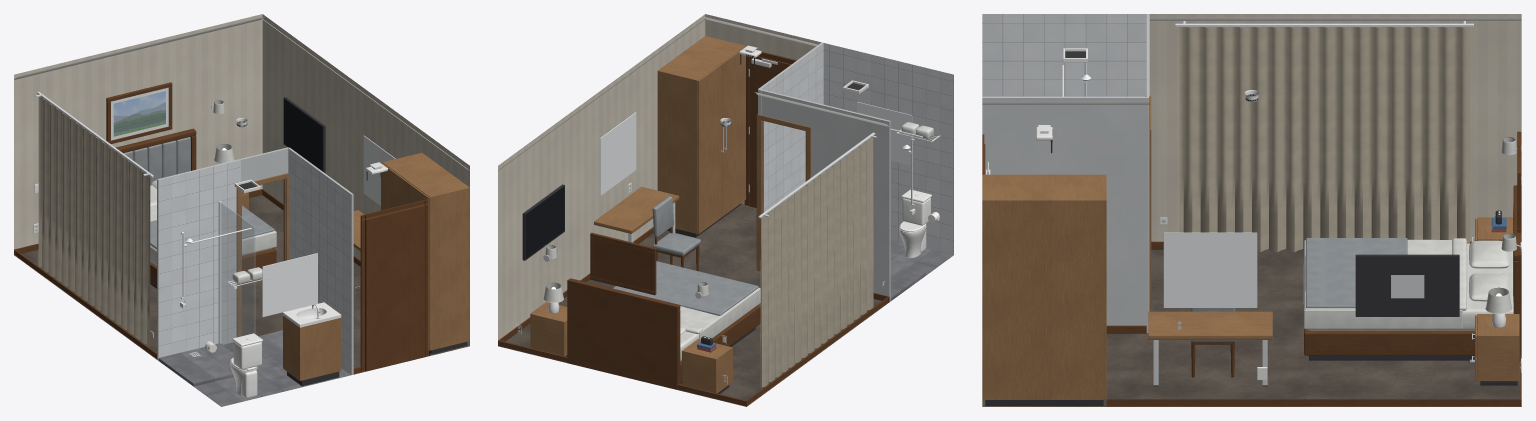
File: rc_hotel.glb
3 renders of one model, left to right at view 1: azimuth 30°, elevation 25°; view 2: azimuth 150°, elevation 25°; view 3: azimuth 270°, elevation 25°, orthographic. The views are drawn at different scales.
Visible parts, largest first — view 1: wall_z0, deco_curtain, wall_x1, deco_bath_p, f14_옷장, f15_현관문, deco_bath_p2, floor, f21_샤워 유리, f18_세면대 장, mirror_1, deco_bath_floor (+23 smaller); view 2: wall_x1, deco_curtain, f14_옷장, deco_bath_z1, f2_헤드보드, floor, part_0a, deco_bath_p2, f5_이불, dev_H4_pic, wall_z1, f6_협탁 (+24 smaller); view 3: deco_curtain, f14_옷장, floor, part_1, wall_x0, deco_bath_x0, mirror_0, f13_TV, f0_침대 틀, f5_이불, f1_매트리스_duvet, f8_책상 (+12 smaller).
Boxes of the visible parts, box(x1,y1,x2,y2) form: wall_z0: box(14, 14, 262, 249); deco_curtain: box(35, 91, 153, 347); wall_x1: box(262, 14, 469, 345); deco_bath_p: box(158, 160, 240, 360); f14_옷장: box(381, 152, 469, 354); f15_현관문: box(366, 205, 424, 371); deco_bath_p2: box(288, 148, 351, 374); floor: box(14, 195, 469, 406); f21_샤워 유리: box(220, 202, 255, 352); f18_세면대 장: box(283, 315, 341, 386); mirror_1: box(262, 253, 317, 316); deco_bath_floor: box(193, 330, 350, 406); wall_x1: box(498, 14, 705, 340); deco_curtain: box(758, 132, 876, 388); f14_옷장: box(657, 36, 746, 237); deco_bath_z1: box(823, 43, 953, 254); f2_헤드보드: box(567, 278, 680, 389); floor: box(499, 203, 888, 406); part_0a: box(806, 101, 890, 301); deco_bath_p2: box(761, 43, 823, 214); f5_이불: box(613, 261, 758, 315); dev_H4_pic: box(593, 238, 651, 290); wall_z1: box(705, 14, 821, 203); f6_협탁: box(682, 339, 732, 393); deco_curtain: box(1175, 21, 1473, 252); f14_옷장: box(982, 174, 1106, 405); floor: box(982, 249, 1520, 406); part_1: box(982, 96, 1148, 332); wall_x0: box(1149, 14, 1521, 241); deco_bath_x0: box(982, 14, 1146, 96); mirror_0: box(1163, 232, 1257, 307); f13_TV: box(1355, 254, 1459, 316); f0_침대 틀: box(1304, 328, 1474, 360); f5_이불: box(1305, 238, 1407, 308); f1_매트리스_duvet: box(1303, 238, 1467, 328); f8_책상: box(1148, 311, 1272, 339).
Size of the model in its own units: 3.6 by 2.5 by 5.2.
36 materials, 15 textured.
